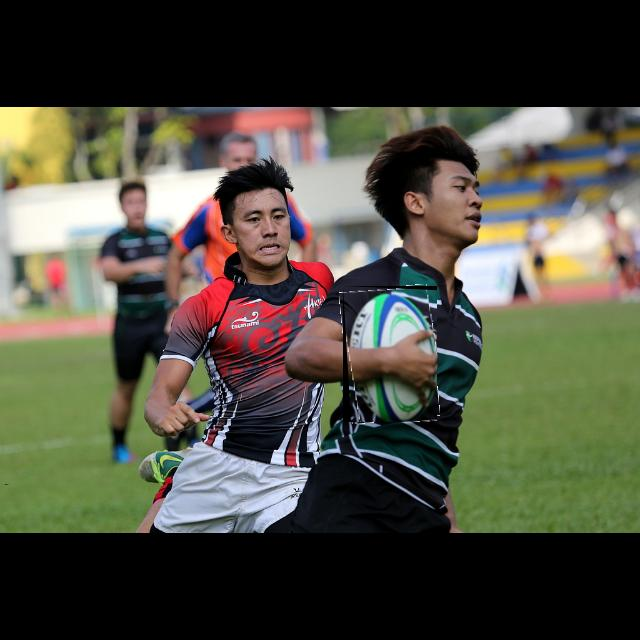Football: (343, 286, 437, 422)
